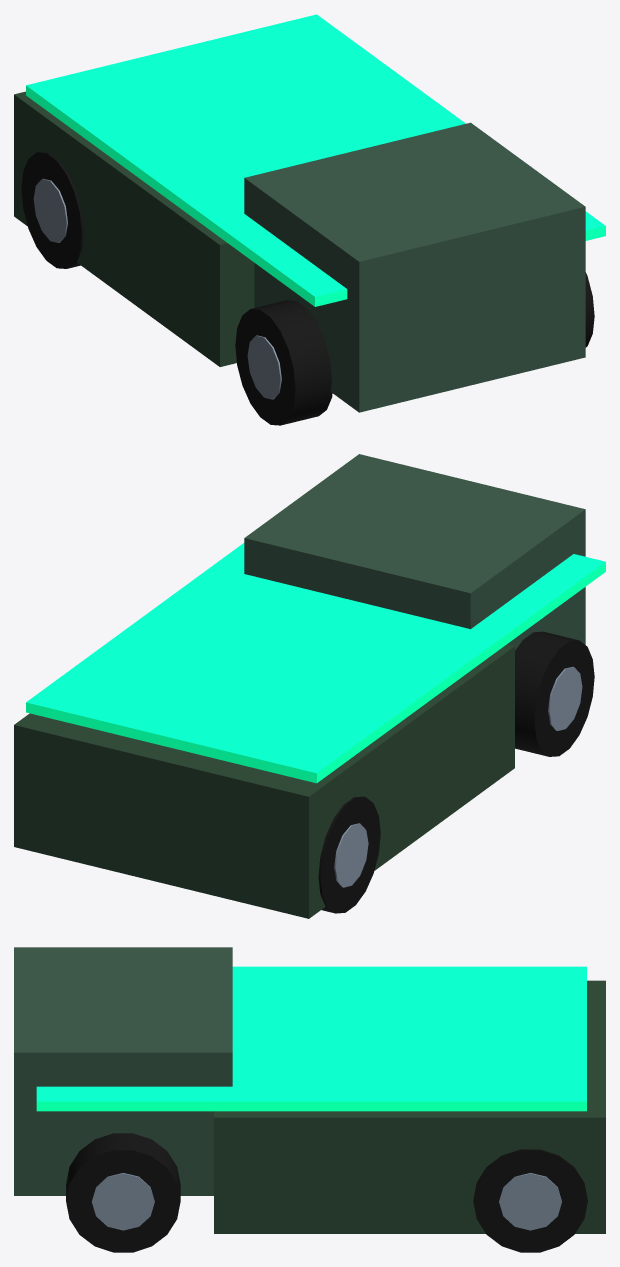
The model's file is tc_haul.glb.
The picture shows the model from 3 angles, top to bottom: view 1: azimuth 30°, elevation 25°; view 2: azimuth 150°, elevation 25°; view 3: azimuth 270°, elevation 25°; orthographic projection. The views are drawn at different scales.
Visible parts, largest first — view 1: TC Hauler; view 2: TC Hauler; view 3: TC Hauler.
Boxes of the visible parts, left/top/right/bottom form: TC Hauler: left=14, top=14, right=605, bottom=425; TC Hauler: left=14, top=454, right=605, bottom=918; TC Hauler: left=14, top=947, right=605, bottom=1252.
Bounding box in the file's own units: 2.2 × 1.34 × 3.92.
